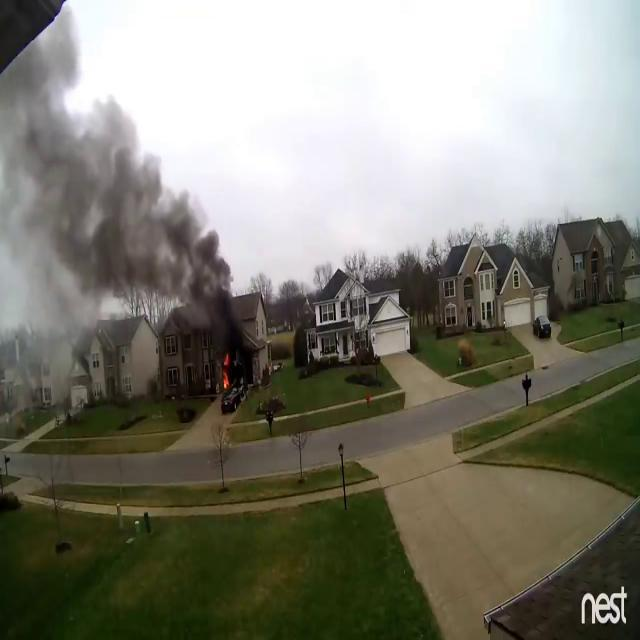Fire: (217, 350, 233, 390)
Smoke: (2, 33, 246, 380)
